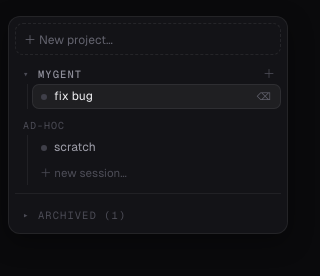
Scenario: ProjectsMenu › expanding archived shows the row with unarchive and delete
This screenshot has width=320, height=276.
Click the button "▸ ARCHIVED (1)": [75, 215] box [15, 200, 281, 225]
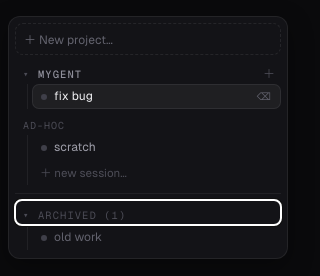
Expected: the text "old work" is shown, [54, 230, 102, 245]
